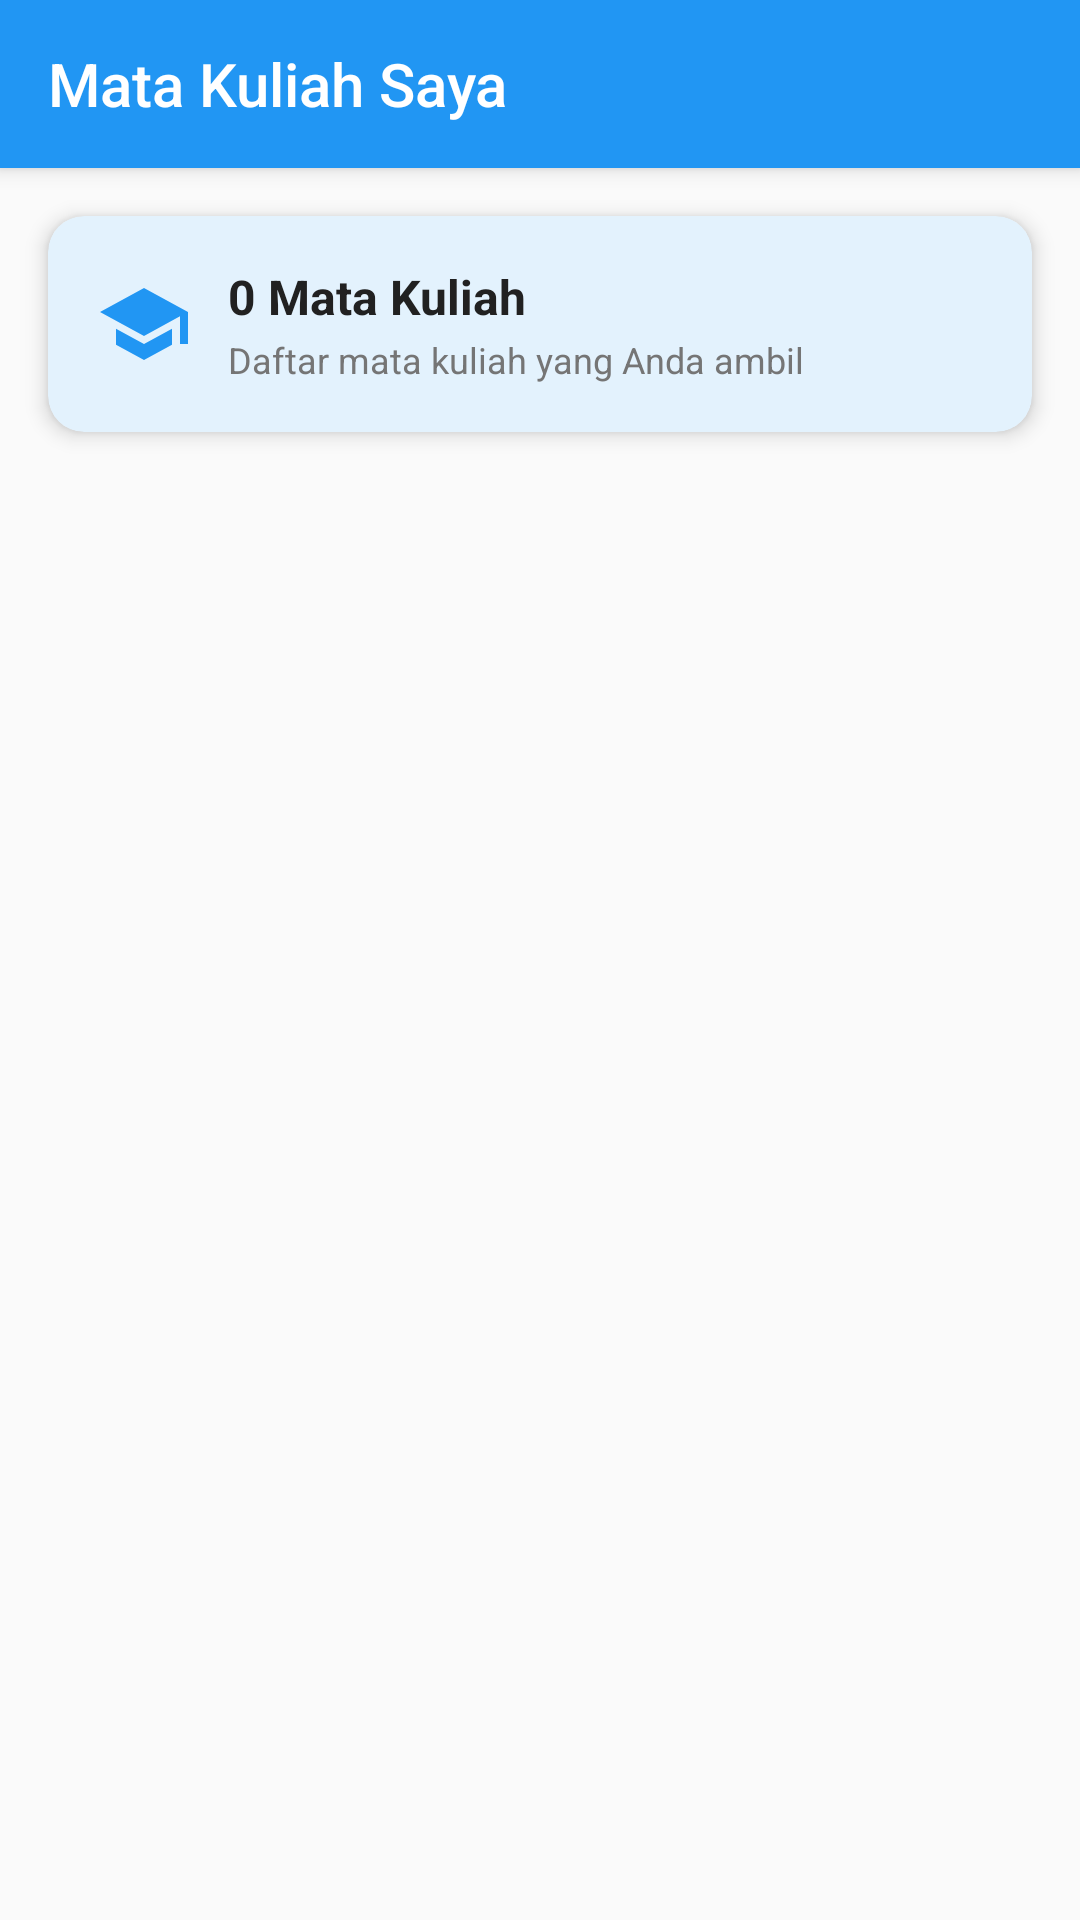

Screen size 1080px x 1920px. Icon name, then its box in pixels as (x1, y1, x2, y2):
school: (100, 288, 188, 360)
